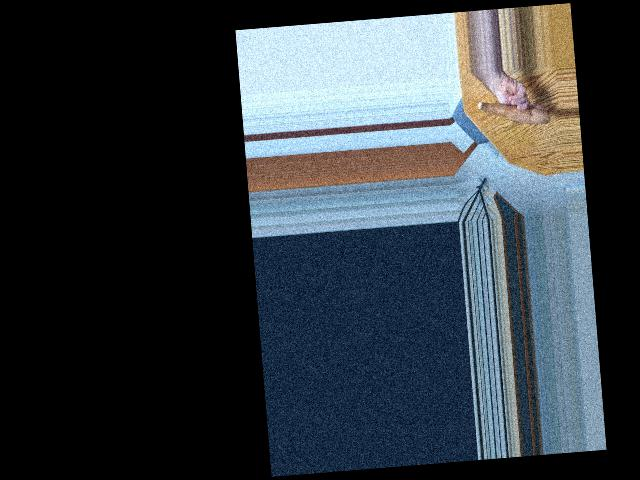sweet_potato: (475, 96, 548, 134)
